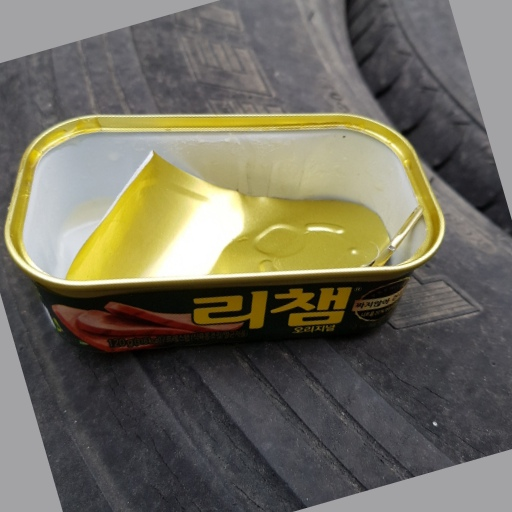Metal_2: (4, 110, 448, 346)
